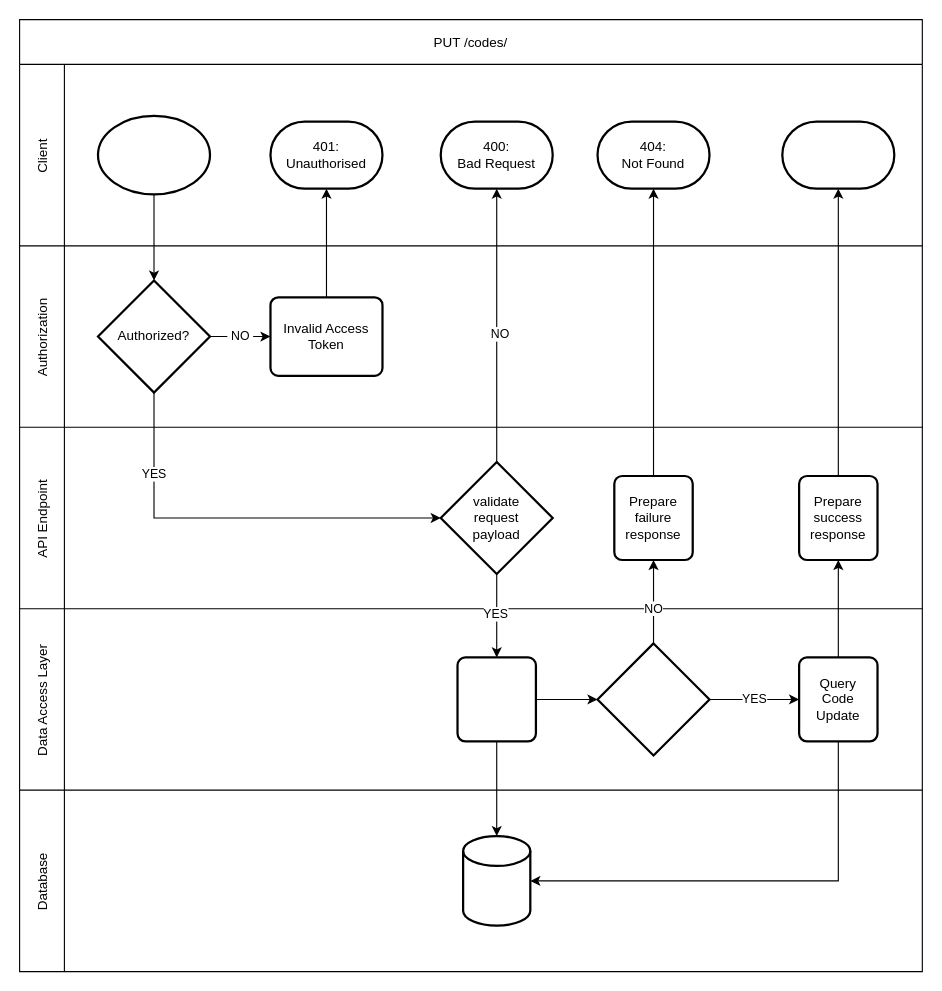
The diagram is 942 pixels wide and 991 high, and some of its shapes have lost their labels. Here are the shapes that lost their labels. From the top down, the box of each, then its label:
(96, 114, 211, 195): Request
(781, 120, 895, 189): 200: Response
(456, 656, 536, 742): Query Code Details
(596, 642, 710, 756): code details found?
(461, 834, 531, 926): DB
